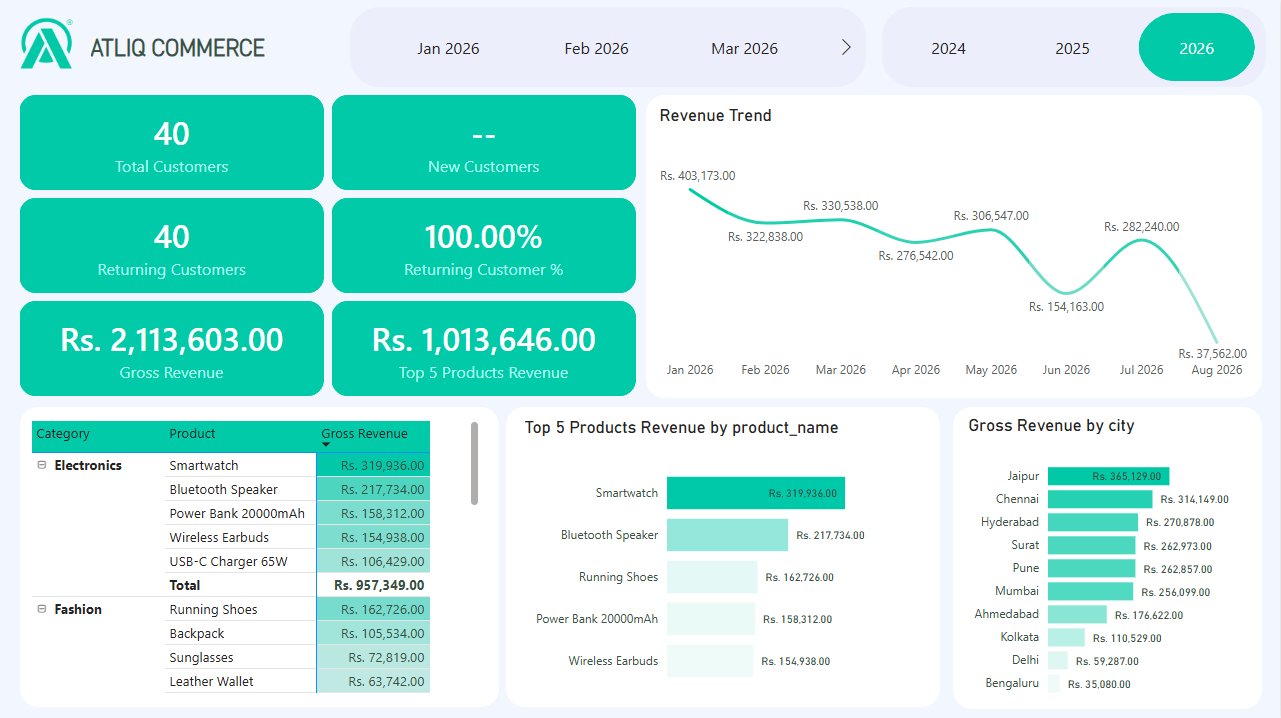

This screenshot's page, from the dashboard's own definition file:
{"tool":"powerbi","page":{"name":"Dashboard","canvas":[1280,720],"ordinal":0},"visuals":[{"type":"group","id":"g1","title":"Group 1","box":[646.5,96.3,615.6,302.8],"z":0},{"type":"textbox","box":[86,30.4,195.1,43],"z":1000},{"type":"shape","box":[646.5,96.3,615.6,302.8],"z":1000,"group":"g1"},{"type":"shape","box":[506.3,407.9,434.2,300.3],"z":1000,"group":"g3"},{"type":"shape","box":[953,407.9,309.1,301.5],"z":1000,"group":"g2"},{"type":"lineChart","title":"Revenue Trend","fields":{"Category":["dim_date.year_month"],"Y":["Key_Measures.Gross Revenue"]},"box":[655.7,105.9,597.5,283],"z":2000,"group":"g1"},{"type":"shape","box":[20,407.9,479.2,300.3],"z":2000},{"type":"cardVisual","fields":{"Data":["Key_Measures.Total Customers","Key_Measures.New Customers","Key_Measures.Returning Customers","Key_Measures.Returning Customer %","Key_Measures.Gross Revenue","Key_Measures.Top 5 Products Revenue"]},"box":[20,96.3,616.9,302.8],"z":3000},{"type":"pivotTable","fields":{"Rows":["dim_product.category","dim_product.product_name"],"Values":["Key_Measures.Gross Revenue"]},"box":[27.1,416.7,456.7,282.8],"z":4000},{"type":"barChart","fields":{"Category":["dim_product.product_name"],"Y":["Key_Measures.Top 5 Products Revenue"]},"box":[520.5,417.9,405.8,282.8],"z":4000,"group":"g3"},{"type":"advancedSlicerVisual","fields":{"Values":["dim_date.year"]},"box":[882.1,7.5,384.1,80.1],"z":5000},{"type":"barChart","fields":{"Category":["dim_customer.city"],"Y":["Key_Measures.Gross Revenue"]},"box":[963.7,415.4,287.6,292.8],"z":5000,"group":"g2"},{"type":"advancedSlicerVisual","fields":{"Values":["dim_date.year_month"]},"box":[350.3,7.5,515.5,80.1],"z":6000},{"type":"group","id":"g2","title":"Group 2","box":[953,407.9,309.1,301.5],"z":7000},{"type":"group","id":"g3","title":"Group 3","box":[506.3,407.9,434.2,300.3],"z":8000},{"type":"image","box":[19.7,3.6,54.6,80.1],"z":9000}]}

Visuals, with their boxes in screenshot pixels (x1, y1, x2, y2), scaled from the page's 1280x720 canvas onto the 1281x718 screenshot:
"Group 1" group: <box>647,96,1263,398</box>
textbox: <box>86,30,281,73</box>
shape: <box>647,96,1263,398</box>
shape: <box>507,407,941,706</box>
shape: <box>954,407,1263,707</box>
"Revenue Trend" lineChart: <box>656,106,1254,388</box>
shape: <box>20,407,500,706</box>
cardVisual - Key_Measures.Total Customers x Key_Measures.New Customers: <box>20,96,637,398</box>
pivotTable - dim_product.category x dim_product.product_name: <box>27,416,484,698</box>
barChart - dim_product.product_name x Key_Measures.Top 5 Products Revenue: <box>521,417,927,699</box>
advancedSlicerVisual - dim_date.year: <box>883,7,1267,87</box>
barChart - dim_customer.city x Key_Measures.Gross Revenue: <box>964,414,1252,706</box>
advancedSlicerVisual - dim_date.year_month: <box>351,7,866,87</box>
"Group 2" group: <box>954,407,1263,707</box>
"Group 3" group: <box>507,407,941,706</box>
image: <box>20,4,74,83</box>
